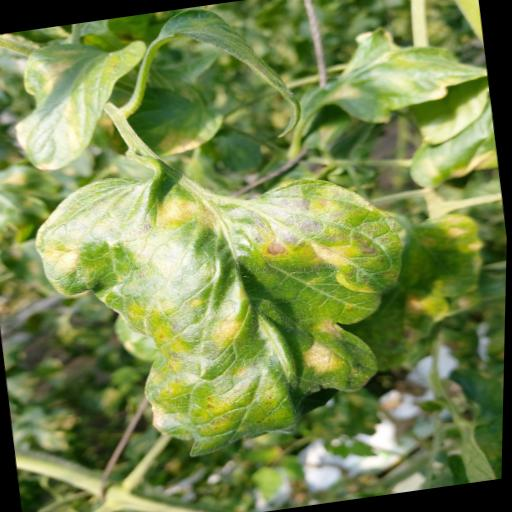Leaf Mold: (25, 137, 430, 475), (1, 31, 165, 174), (322, 10, 493, 130)
